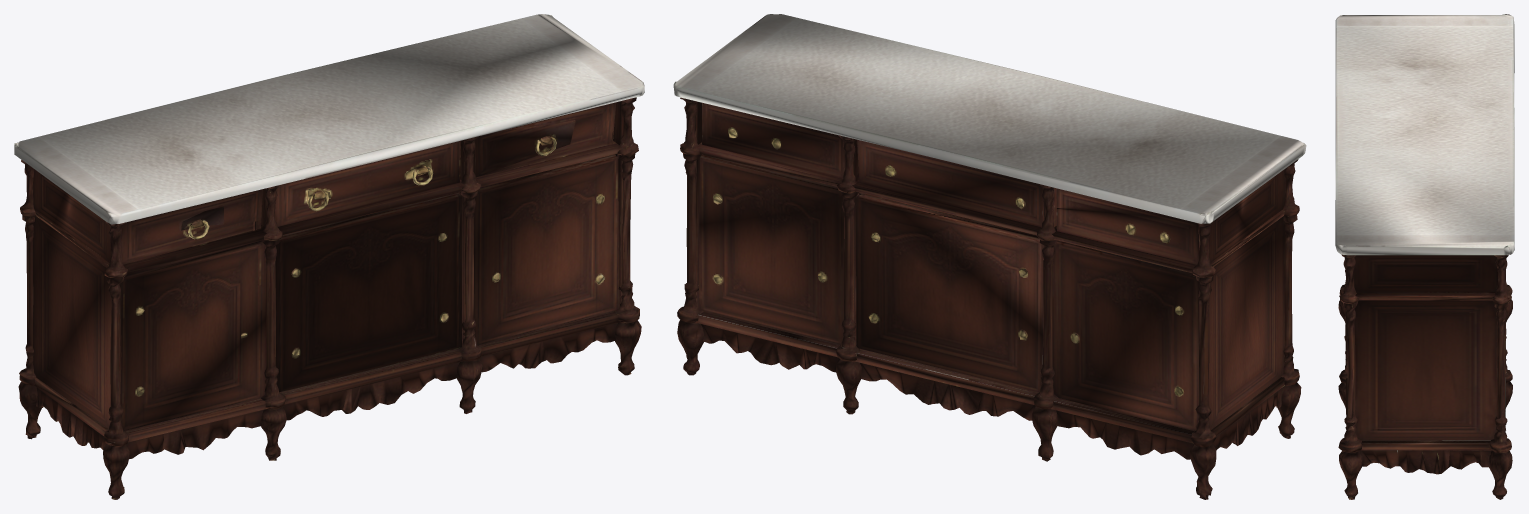
Rendered from rrr_prop_sideboard_v1.glb.
3 views of the same model, side by side, from view 1: azimuth 30°, elevation 25°; view 2: azimuth 150°, elevation 25°; view 3: azimuth 270°, elevation 25° (orthographic). The views are drawn at different scales.
Parts seen in each view (by area): view 1: Mesh_0; view 2: Mesh_0; view 3: Mesh_0.
Boxes of the visible parts, <box> form: Mesh_0: <box>14,14,644,499</box>; Mesh_0: <box>673,14,1306,499</box>; Mesh_0: <box>1335,14,1514,499</box>.
Size of the model in its own units: 1.73 by 0.9 by 0.5663.
Materials: 1 (1 with a texture image).
